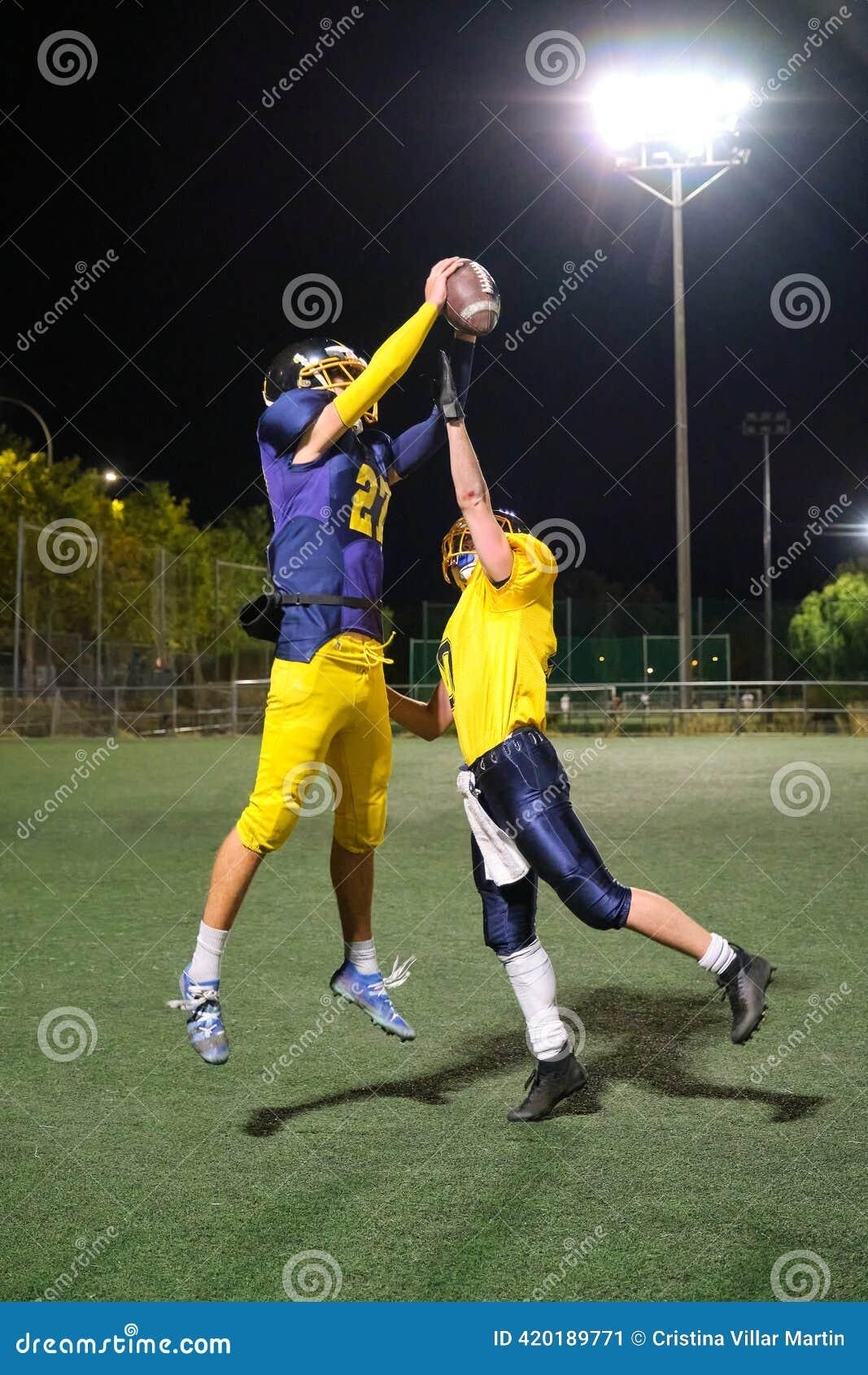americanFootball: (431, 256, 510, 338)
